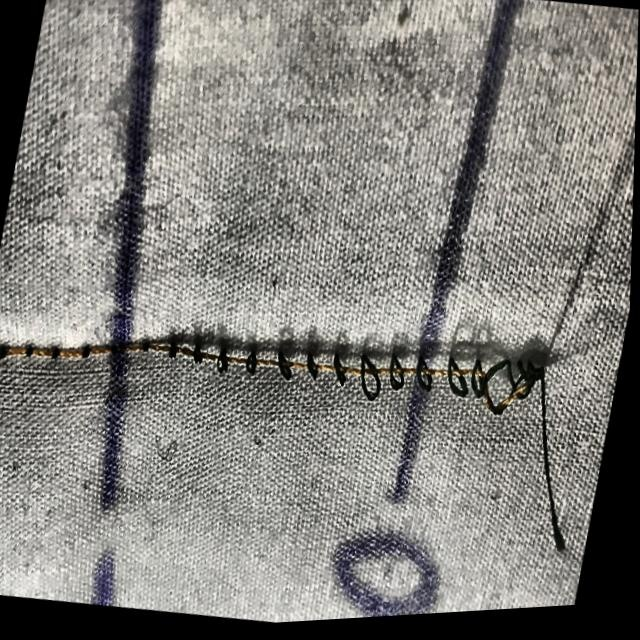Stitch: (124, 256, 640, 620)
